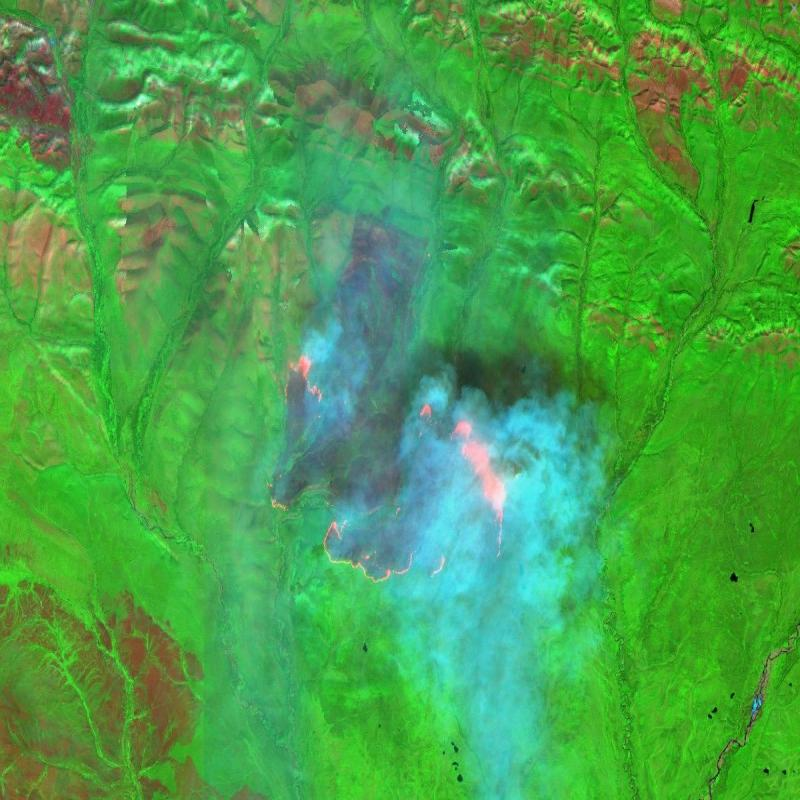fire: (261, 347, 515, 600)
